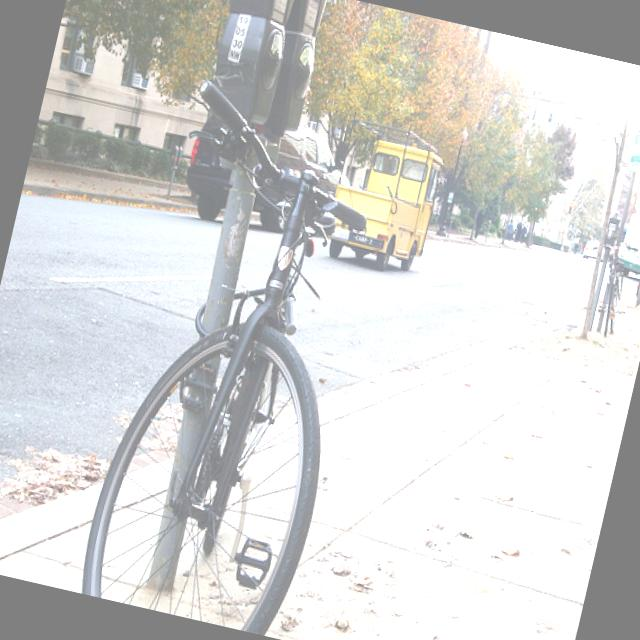Vehicle: (179, 105, 365, 252), (319, 113, 451, 280), (614, 211, 640, 283), (582, 240, 606, 262)
